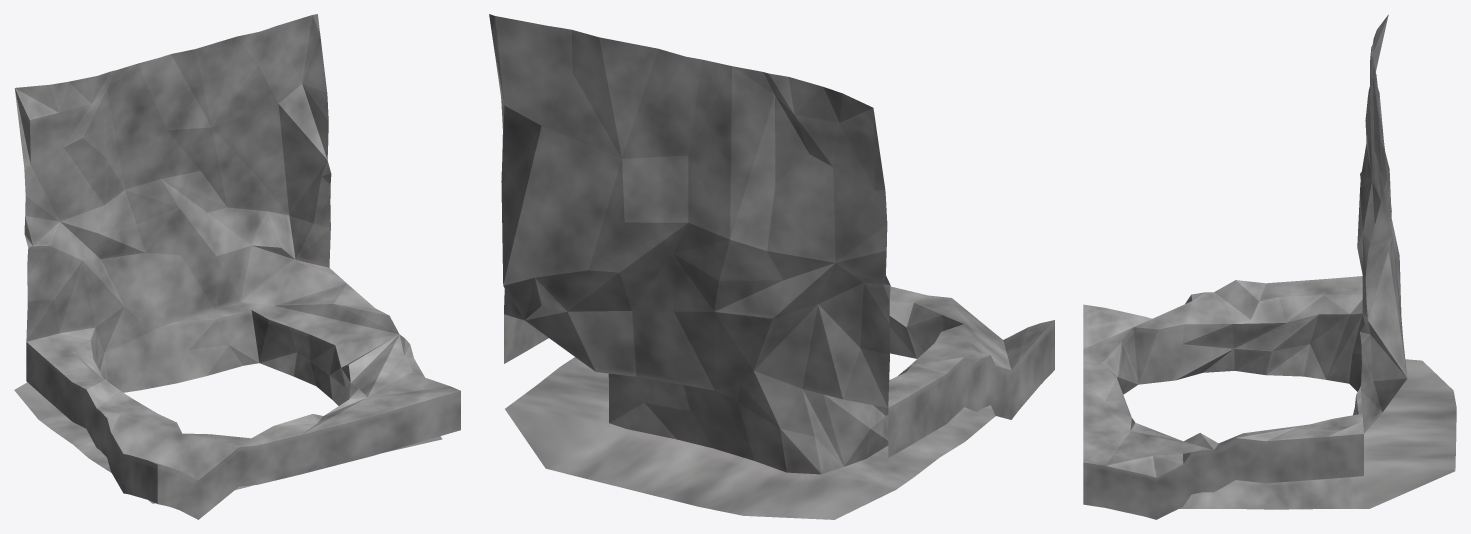
Rendered from WallFloorTunnelEntrance2.gltf.
3 views of the same model, side by side, from view 1: azimuth 30°, elevation 25°; view 2: azimuth 150°, elevation 25°; view 3: azimuth 270°, elevation 25° (orthographic). The views are drawn at different scales.
Visible parts, largest first — view 1: WallFloorTunnelEntrance2; view 2: WallFloorTunnelEntrance2; view 3: WallFloorTunnelEntrance2.
Part boxes in pixels (x1=…): WallFloorTunnelEntrance2: x1=14, y1=14, x2=460, y2=519; WallFloorTunnelEntrance2: x1=489, y1=14, x2=1054, y2=519; WallFloorTunnelEntrance2: x1=1083, y1=14, x2=1456, y2=519.
Size of the model in its own units: 5 by 5.32 by 5.
Materials: 1 (1 with a texture image).
